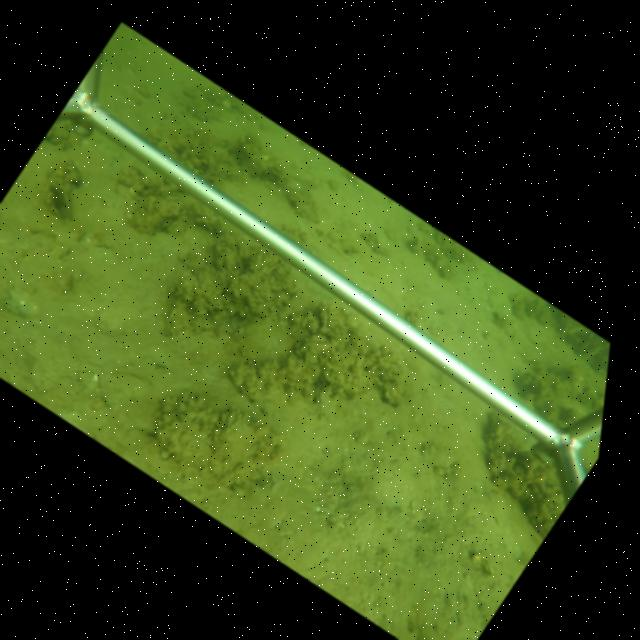Oyster-Closed: (313, 388, 334, 419)
